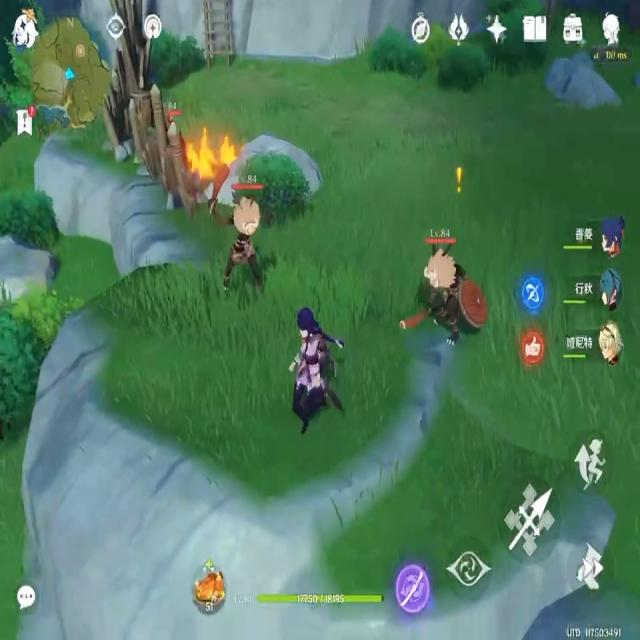genshin-hilichurls: (409, 230, 485, 350), (206, 168, 270, 299)
